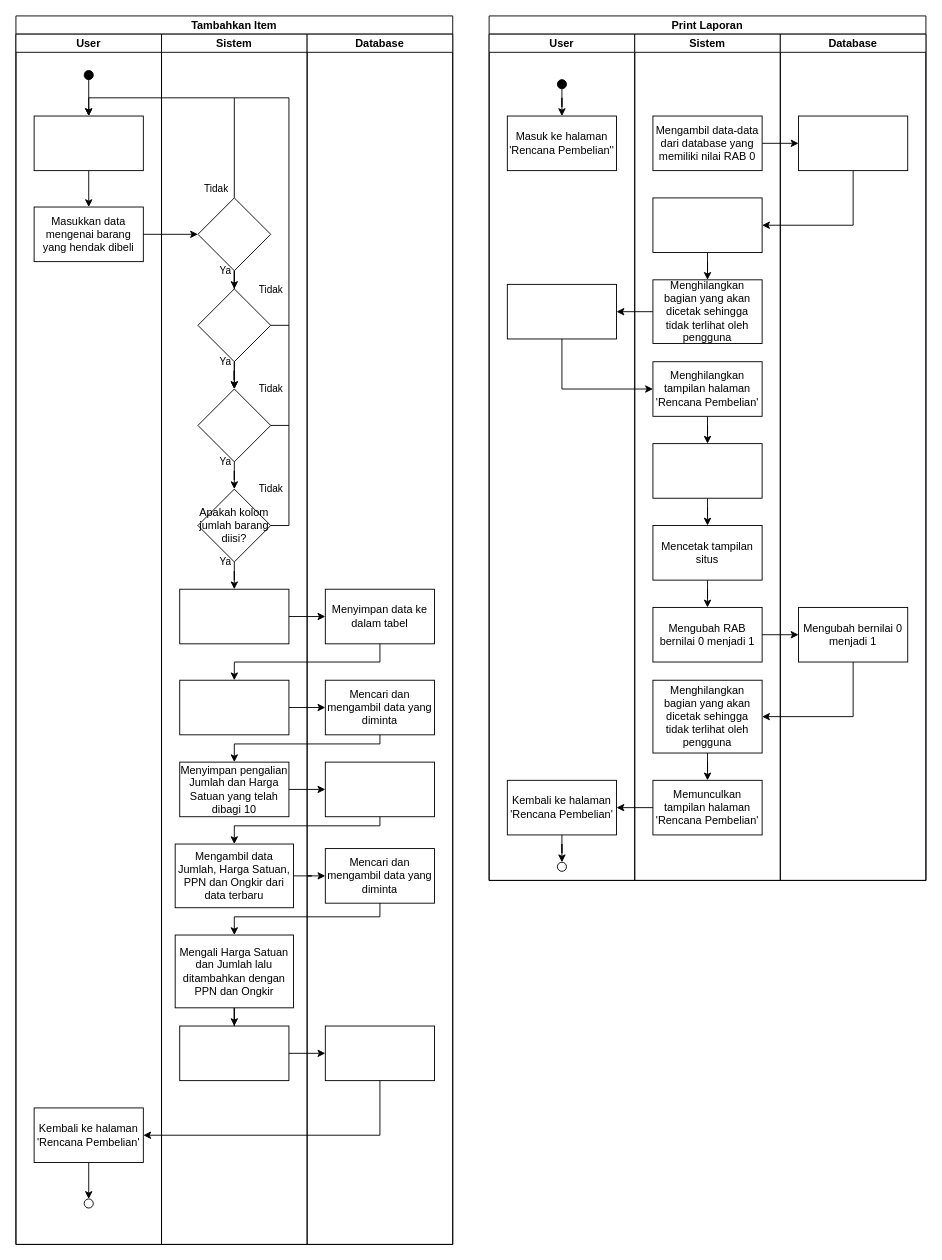
Some shapes in this 942 by 1260 pixel diagram are drawn without their labels. Each missing label, with the centre of its shape:
"Apakah kolom harga satuan barang diisi?" belongs at [234,425].
"Apakah kolom keterangan barang diisi?" belongs at [234,325].
"Apakah kolom nama barang diisi?" belongs at [234,234].
"Memasukkan data-data yang baru saja dimasukkan ke dalam database" belongs at [234,616].
"Memasukkan data-data yang diambil ke tabel yang sesuai" belongs at [707,225].
"Memunculkan bagian yang akan dicetak" belongs at [707,470].
"Mencari dan mengambil data-data yang diperlukan" belongs at [853,143].
"Menekan tombol 'Purchase Order'" belongs at [561,311].
"Mengambil data Jumlah dan Harga Satuan dari data terbaru" belongs at [234,707].
"Mengirim hasil perhitungan ke databse" belongs at [234,1053].
"Menyimpan data baru di kolom PPN" belongs at [379,789].
"Menyimpan hasil perhitungan ke kolom harga total" belongs at [379,1053].
"Tekan tombol 'Tambahkan'" belongs at [88,143].
